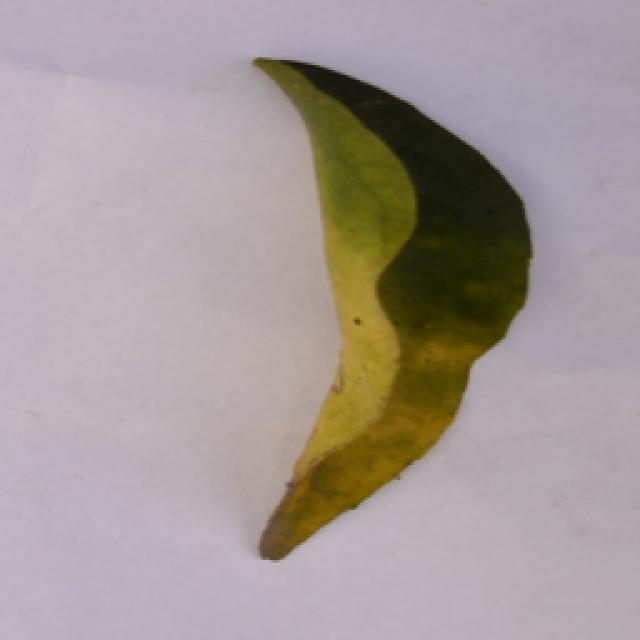canker: (172, 55, 576, 569)
